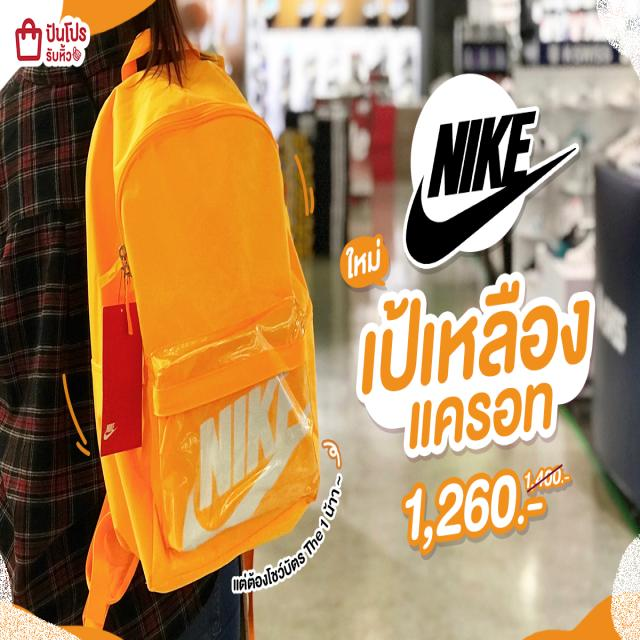handbag: (70, 28, 325, 601)
